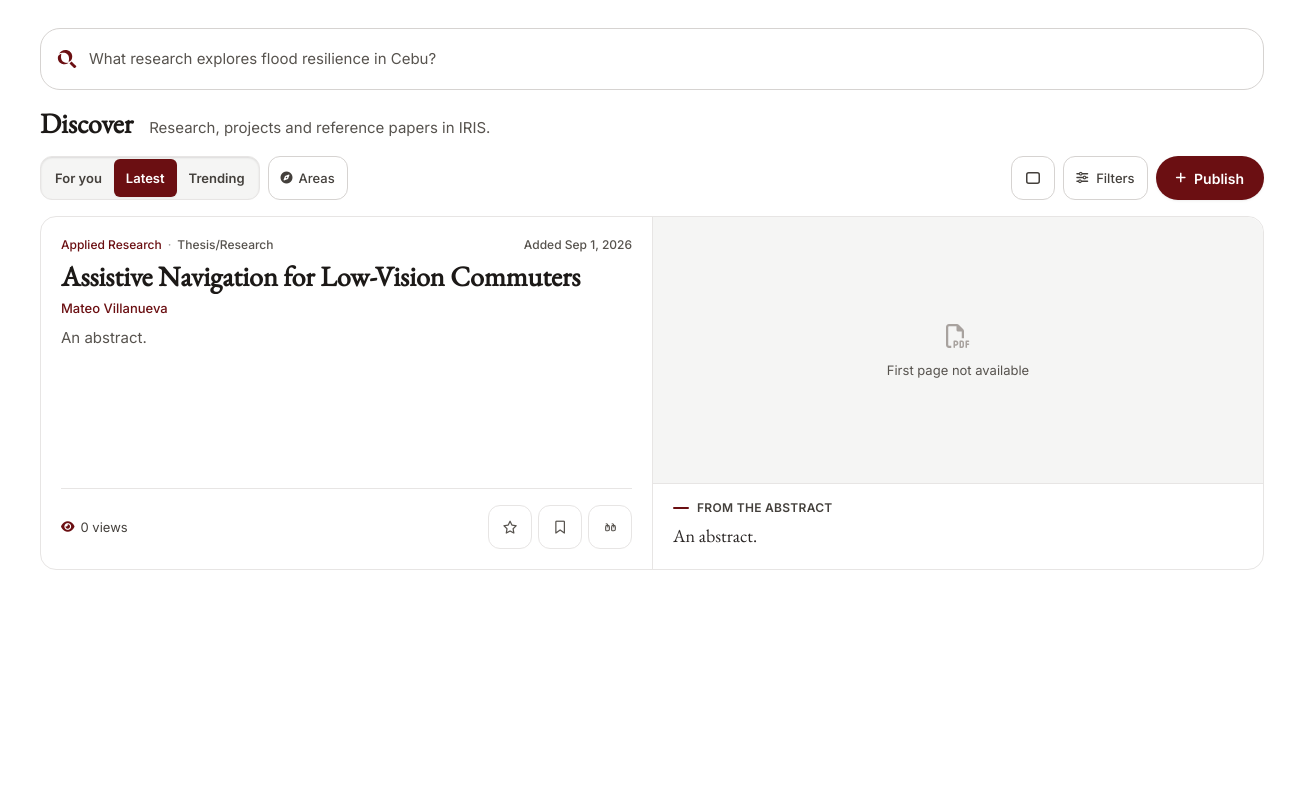
the page head › keeps both a just-typed search and the Publish dialog in the URL
The image size is (1292, 800).
Type "rainfall" into the text box named "Search records".
click(668, 59); type("rainfall")  # box [89,37,1247,81]
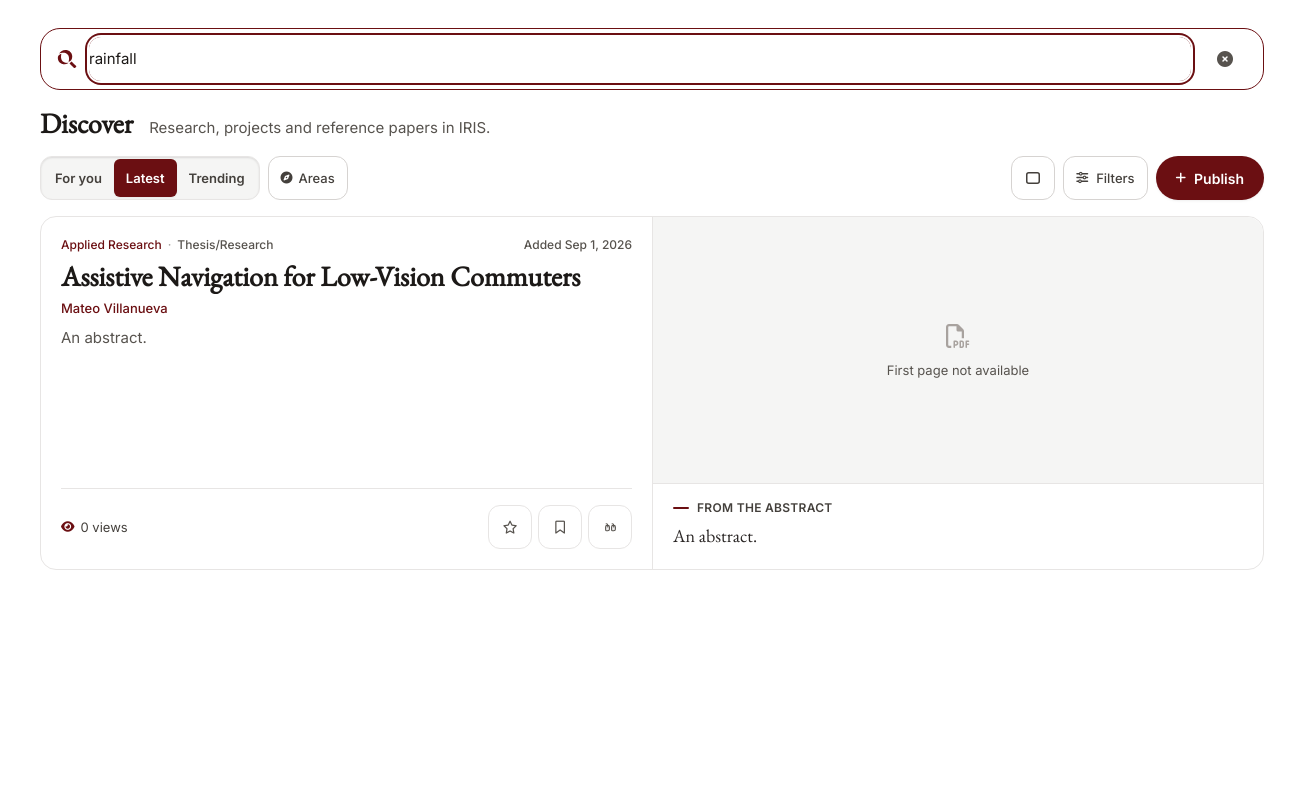
Click the button "Publish".
click(1210, 178)  # box [1156,156,1264,200]
(page scrolled)
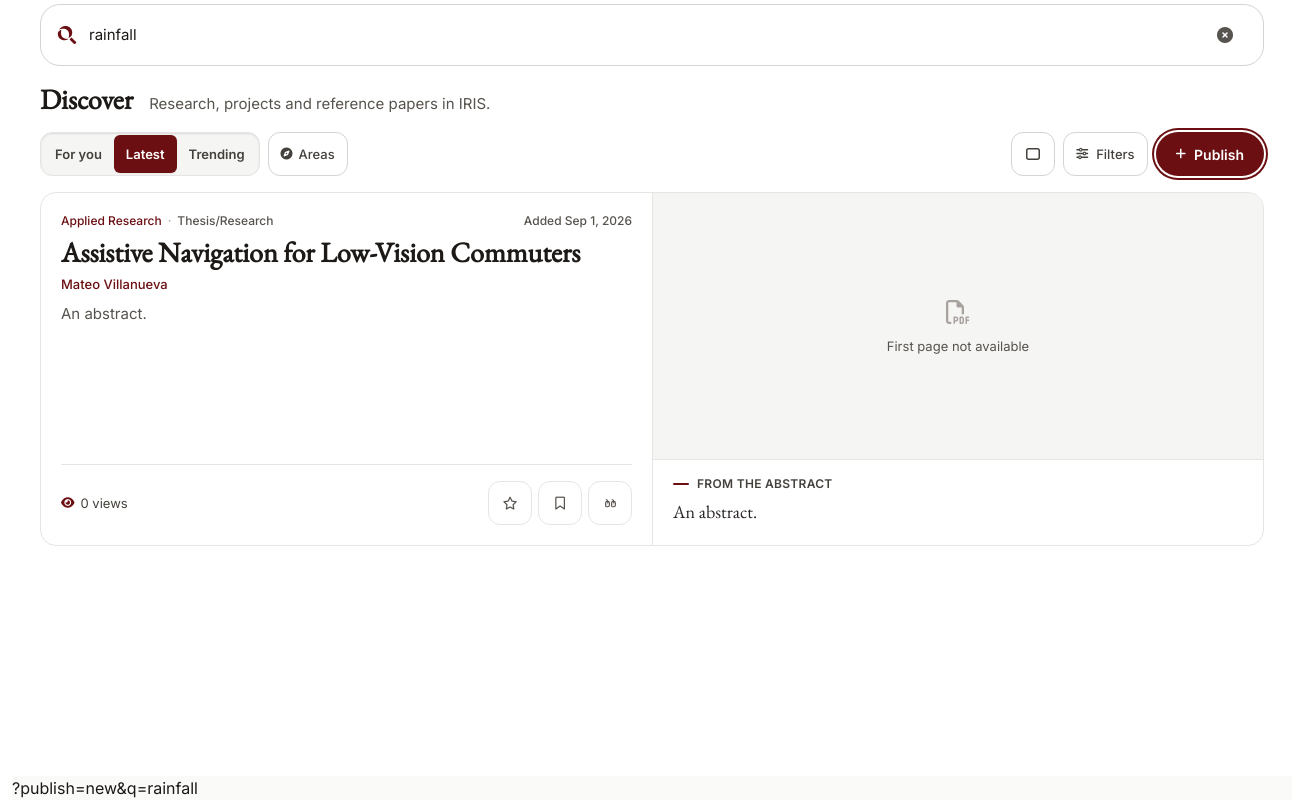
Expected: the text named "Current query" shows "publish=new", [12,778,198,798]
Expected: the text named "Current query" shows "q=rainfall", [12,778,198,798]
